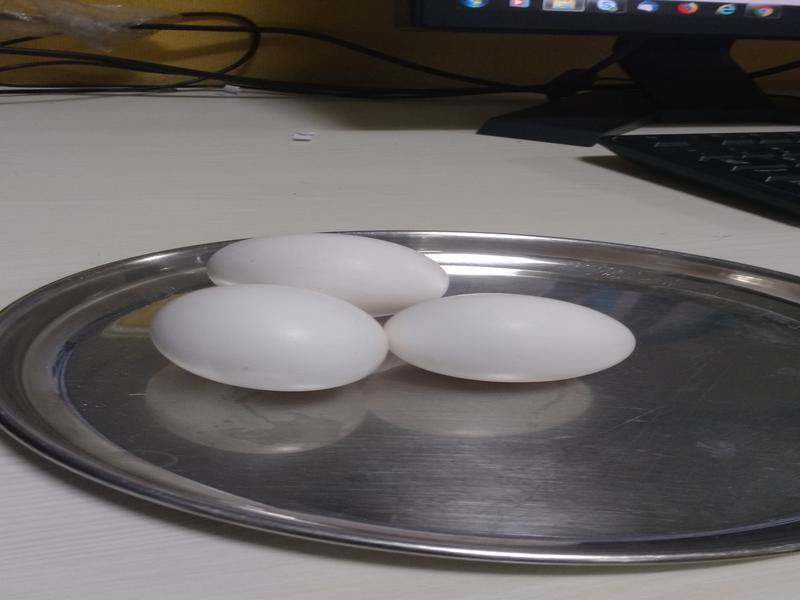egg: (383, 296, 642, 385)
